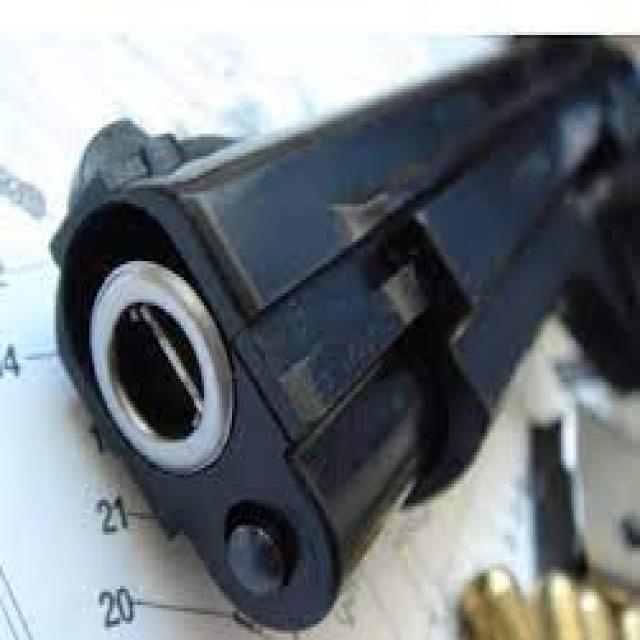gun: (65, 34, 618, 616)
